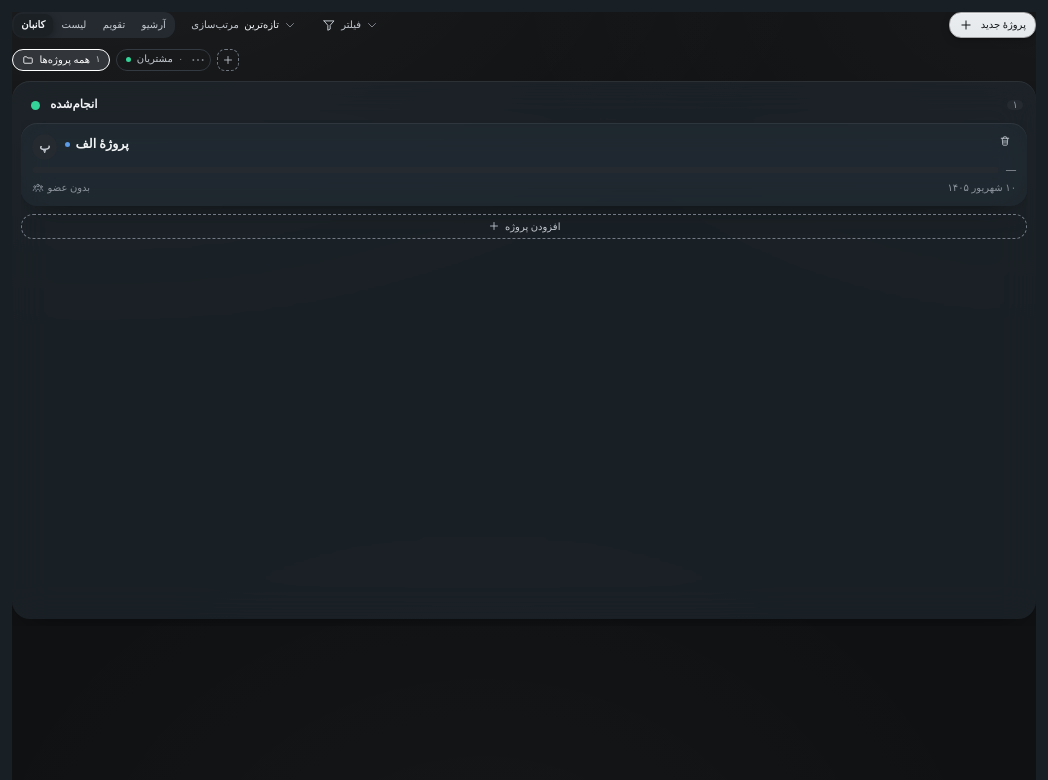
Test: the projects page is the board's two rows (2026-09-16) › the `+` is a NEW FOLDER — the board's inline box and its write, not the project dialog
This screenshot has width=1048, height=780.
expect the heading "پروژهٔ الف" is shown: met, box [76, 134, 129, 154]
Click the button named "پوشهٔ جدید" at x=228, y=60, box [217, 49, 239, 70]
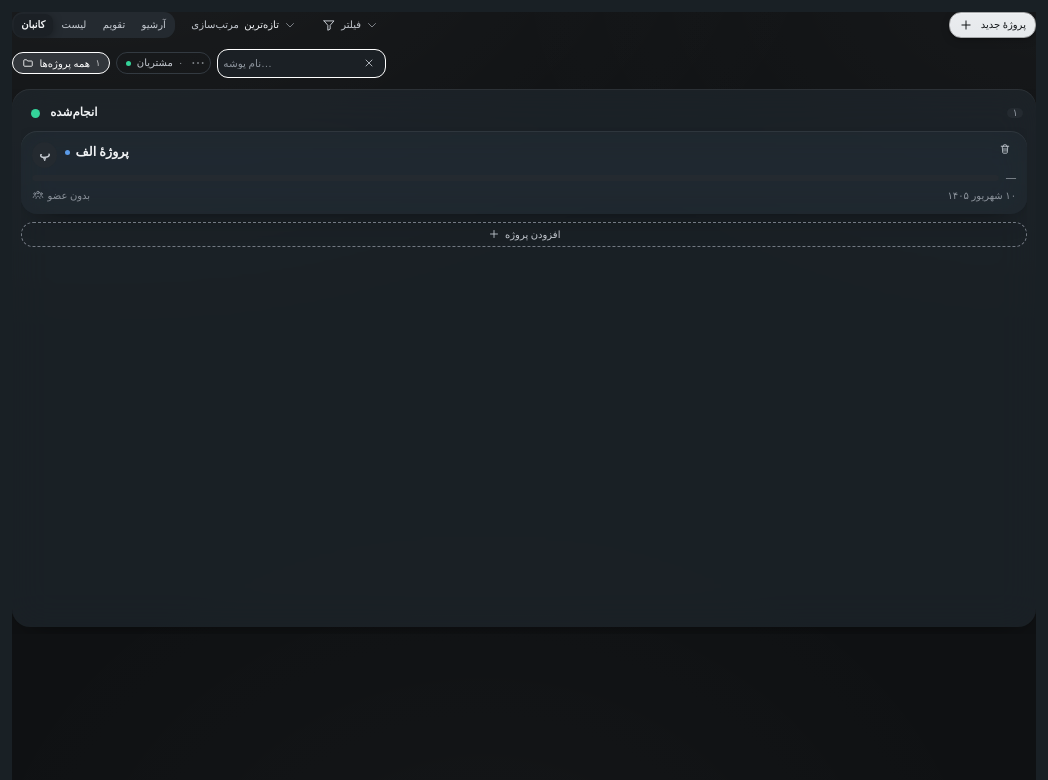
Type "فروش" into the field with placeholder "نام پوشه…" at x=289, y=63, box [223, 50, 354, 77]
Then press Enter
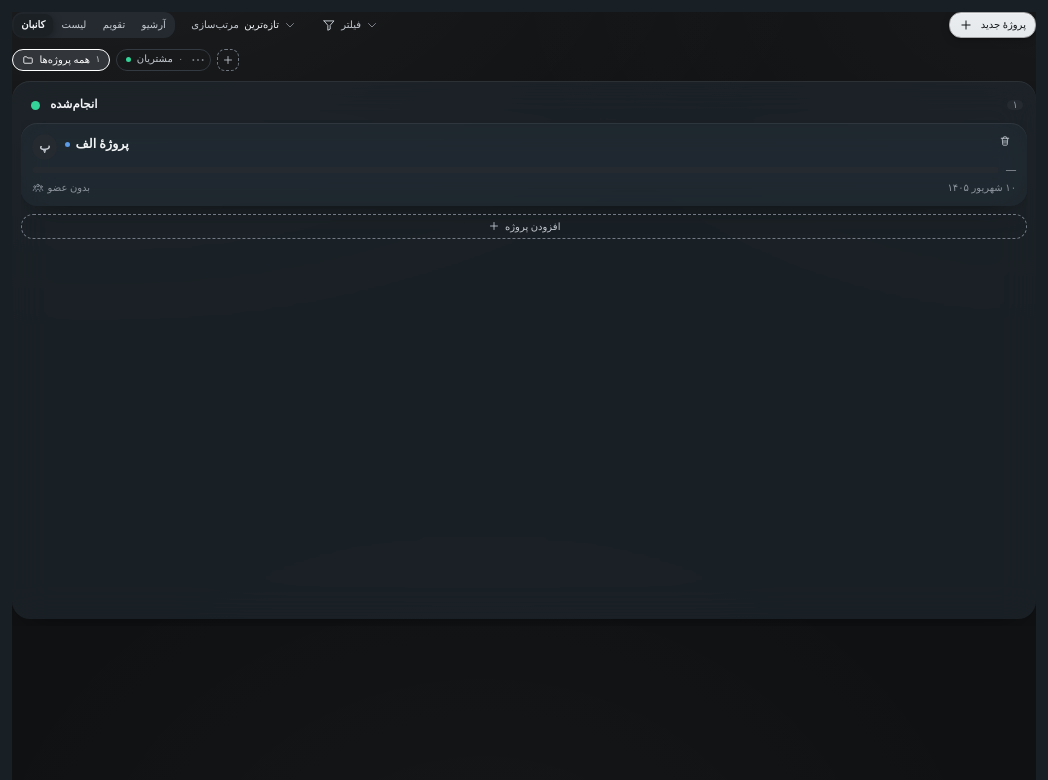
expect the field with placeholder "نام پوشه…" is not shown: met
expect the button named "پوشهٔ جدید" is shown: met, box [217, 49, 239, 70]
